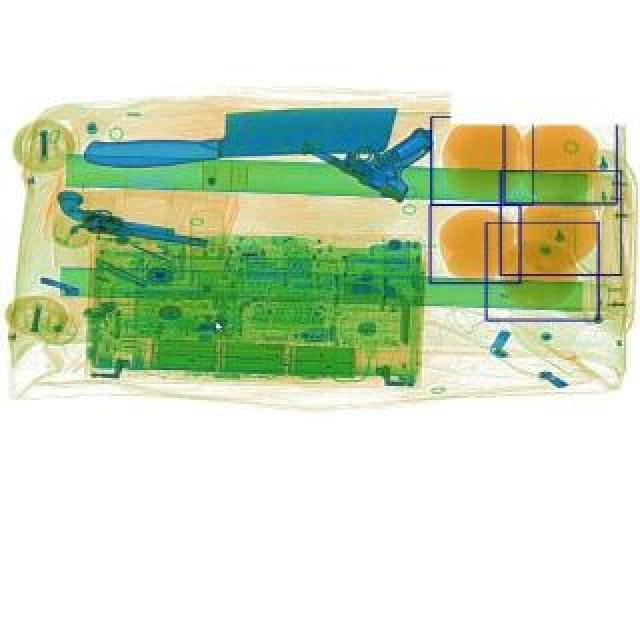gun: (294, 80, 442, 204), (50, 190, 210, 250)
knife: (80, 106, 396, 166)
